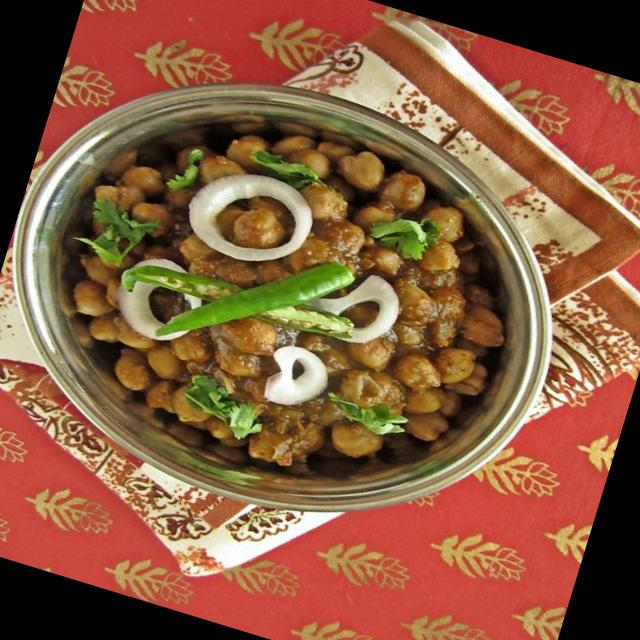Chole: (33, 77, 546, 517)
